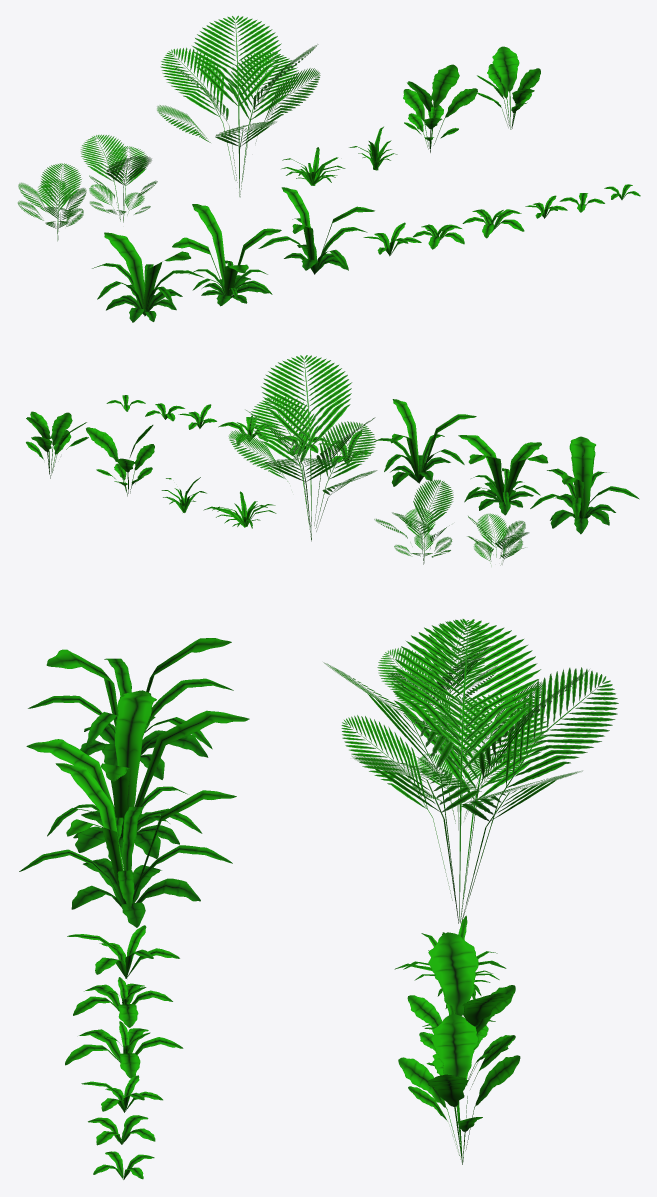
Rendered from plants2_edit_for_FBX.fbx.
3 renders of one model, top to bottom at view 1: azimuth 30°, elevation 25°; view 2: azimuth 150°, elevation 25°; view 3: azimuth 270°, elevation 25°, orthographic. The views are drawn at different scales.
Parts seen in each view (by area): view 1: Plants03, Plants08, Plants02, Plants09, Plants01, Plants06, Plants10, Plants07, Plants13, Plants04, Plants12, Plants11 (+1 smaller); view 2: Plants03, Plants08, Plants09, Plants02, Plants10, Plants01, Plants07, Plants06, Plants04, Plants13, Plants11, Plants05; view 3: Plants03, Plants09, Plants10, Plants08, Plants07, Plants06, Plants01, Plants02, Plants13, Plants12, Plants11, Plants15 (+2 smaller).
Boxes of the visible parts, x1,y1,x2,y2 form: Plants03: (157,15,320,197); Plants08: (92,232,203,322); Plants02: (80,134,157,222); Plants09: (172,204,281,306); Plants01: (17,163,86,241); Plants06: (403,64,477,152); Plants10: (258,187,374,274); Plants07: (477,46,540,129); Plants13: (462,209,524,238); Plants04: (281,147,345,185); Plants12: (413,224,464,249); Plants11: (363,222,421,256); Plants03: (228,355,377,541); Plants08: (530,436,639,534); Plants09: (458,435,548,515); Plants02: (374,479,453,564); Plants10: (374,399,476,486); Plants01: (467,513,529,566); Plants07: (26,411,88,478); Plants06: (86,425,154,496); Plants04: (203,491,276,528); Plants13: (218,415,278,444); Plants11: (318,430,371,464); Plants05: (161,477,206,512); Plants03: (323,619,618,924); Plants09: (26,690,249,859); Plants10: (19,763,236,927); Plants08: (28,638,233,779); Plants07: (398,1014,520,1164); Plants06: (407,932,515,1086); Plants01: (377,619,497,755); Plants02: (405,667,543,830); Plants13: (65,1021,183,1078); Plants12: (73,977,172,1027); Plants11: (67,925,179,978); Plants15: (88,1115,155,1145).
Bounding box in the file's own units: 640 × 187 × 356.
